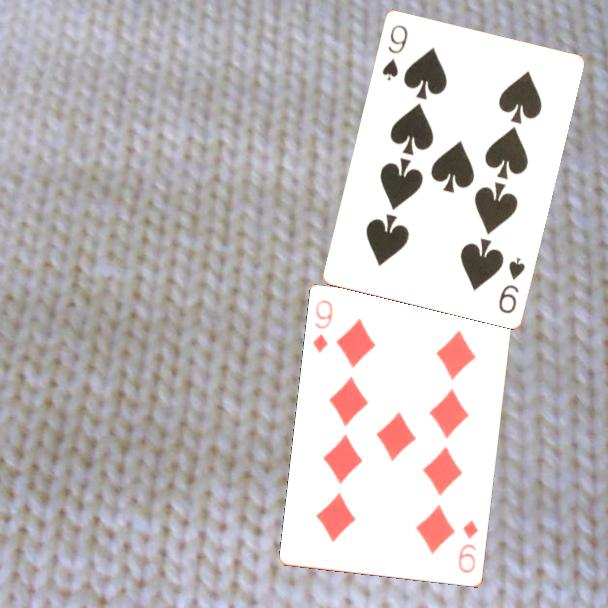d09: (309, 297, 336, 356), (455, 517, 481, 576)
s09: (495, 253, 528, 316), (378, 21, 410, 83)
